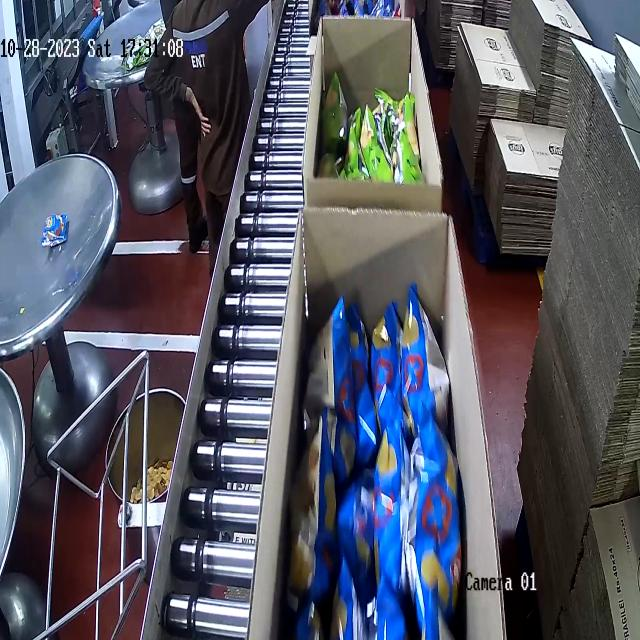PAPRIKA: (310, 292, 465, 626)
